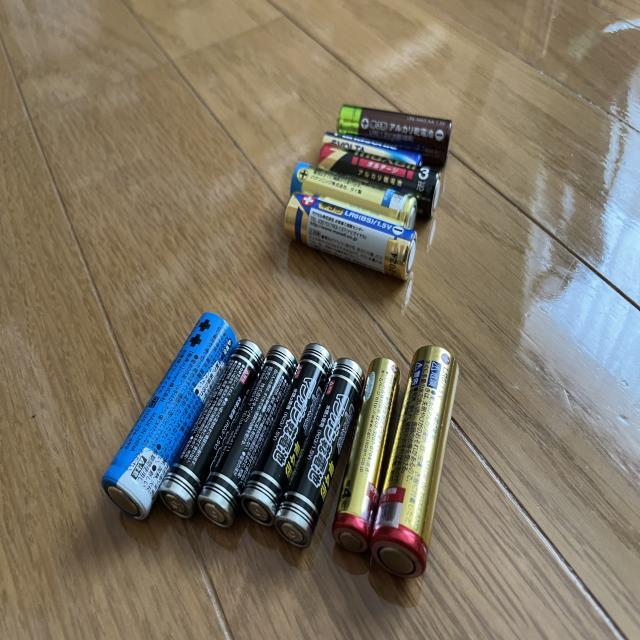hazardous waste: (96, 311, 239, 528), (366, 342, 464, 584), (156, 336, 266, 538), (196, 344, 300, 533), (238, 340, 336, 532), (273, 354, 367, 552), (330, 354, 405, 560), (281, 189, 422, 286), (284, 158, 421, 238), (312, 142, 443, 224), (333, 100, 456, 170), (314, 128, 424, 186)
